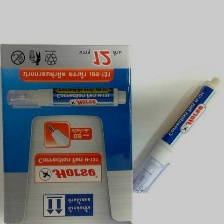book: (0, 40, 136, 223)
correction_fluid: (127, 73, 224, 194)
